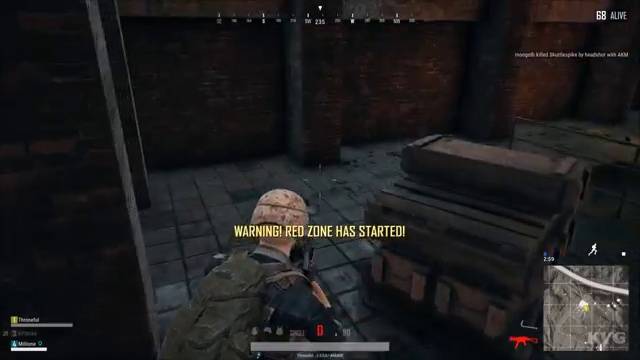Player: (194, 182, 356, 321)
